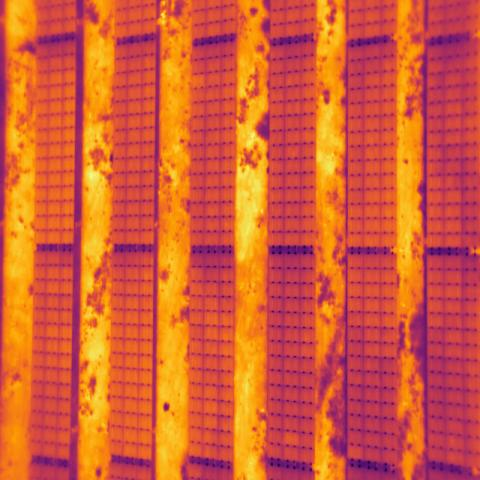fault: (283, 429, 298, 447)
